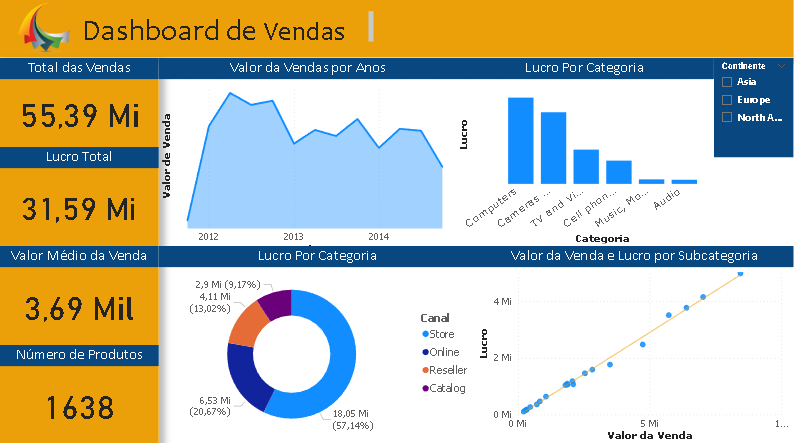

The page's visual inventory and layout, read from the dashboard file:
{"tool":"powerbi","page":{"name":"Página 1","canvas":[1280,720],"ordinal":0},"visuals":[{"type":"shape","box":[0,0,1280,96],"z":0},{"type":"image","box":[0,0,144,96],"z":1000},{"type":"textbox","box":[128,16,480,64],"z":2000},{"type":"shape","box":[0,96,256,624],"z":3000},{"type":"card","title":"Total das Vendas","fields":{"Values":["Sum(Data1.Valor da Venda)"]},"box":[0,96,256,144],"z":4000},{"type":"card","title":"Lucro Total","fields":{"Values":["Sum(Data1.Lucro)"]},"box":[0,240,256,160],"z":5000},{"type":"card","title":"Valor Médio da Venda","fields":{"Values":["Avg(Data1.Valor da Venda)"]},"box":[0,400,256,160],"z":6000},{"type":"card","title":"Número de Produtos","fields":{"Values":["Count(Data1.Produto)"]},"box":[0,560,256,160],"z":7000},{"type":"areaChart","title":"Valor da Vendas por Anos","fields":{"Category":["Data1.Data Venda.Variation.Hierarquia de datas.Ano","Data1.Data Venda.Variation.Hierarquia de datas.Trimestre","Data1.Data Venda.Variation.Hierarquia de datas.Mês","Data1.Data Venda.Variation.Hierarquia de datas.Dia"],"Y":["Sum(Data1.Valor da Venda)"]},"box":[256,96,480,320],"z":8000},{"type":"clusteredColumnChart","title":"Lucro Por Categoria","fields":{"Category":["Data1.Categoria"],"Y":["Sum(Data1.Lucro)"]},"box":[736,96,416,304],"z":9000},{"type":"donutChart","title":"Lucro Por Categoria","fields":{"Category":["Data1.Canal"],"Y":["Sum(Data1.Lucro)"]},"box":[256,400,512,320],"z":10000},{"type":"scatterChart","title":"Valor da Venda e Lucro por Subcategoria","fields":{"Category":["Data1.Subcategoria"],"X":["Sum(Data1.Valor da Venda)"],"Y":["Sum(Data1.Lucro)"]},"box":[768,400,512,320],"z":11000},{"type":"slicer","fields":{"Values":["Data1.Continente"]},"box":[1152,96,128,160],"z":12000}]}

Visuals, with their boxes in screenshot pixels (x1, y1, x2, y2), scaled from the page's 1280x720 canvas onto the 794x443 screenshot:
shape: (x1=0, y1=0, x2=793, y2=59)
image: (x1=0, y1=0, x2=89, y2=59)
textbox: (x1=79, y1=10, x2=377, y2=49)
shape: (x1=0, y1=59, x2=159, y2=442)
"Total das Vendas" card: (x1=0, y1=59, x2=159, y2=148)
"Lucro Total" card: (x1=0, y1=148, x2=159, y2=246)
"Valor Médio da Venda" card: (x1=0, y1=246, x2=159, y2=345)
"Número de Produtos" card: (x1=0, y1=345, x2=159, y2=442)
"Valor da Vendas por Anos" areaChart: (x1=159, y1=59, x2=457, y2=256)
"Lucro Por Categoria" clusteredColumnChart: (x1=457, y1=59, x2=715, y2=246)
"Lucro Por Categoria" donutChart: (x1=159, y1=246, x2=476, y2=442)
"Valor da Venda e Lucro por Subcategoria" scatterChart: (x1=476, y1=246, x2=793, y2=442)
slicer - Data1.Continente: (x1=715, y1=59, x2=793, y2=158)
